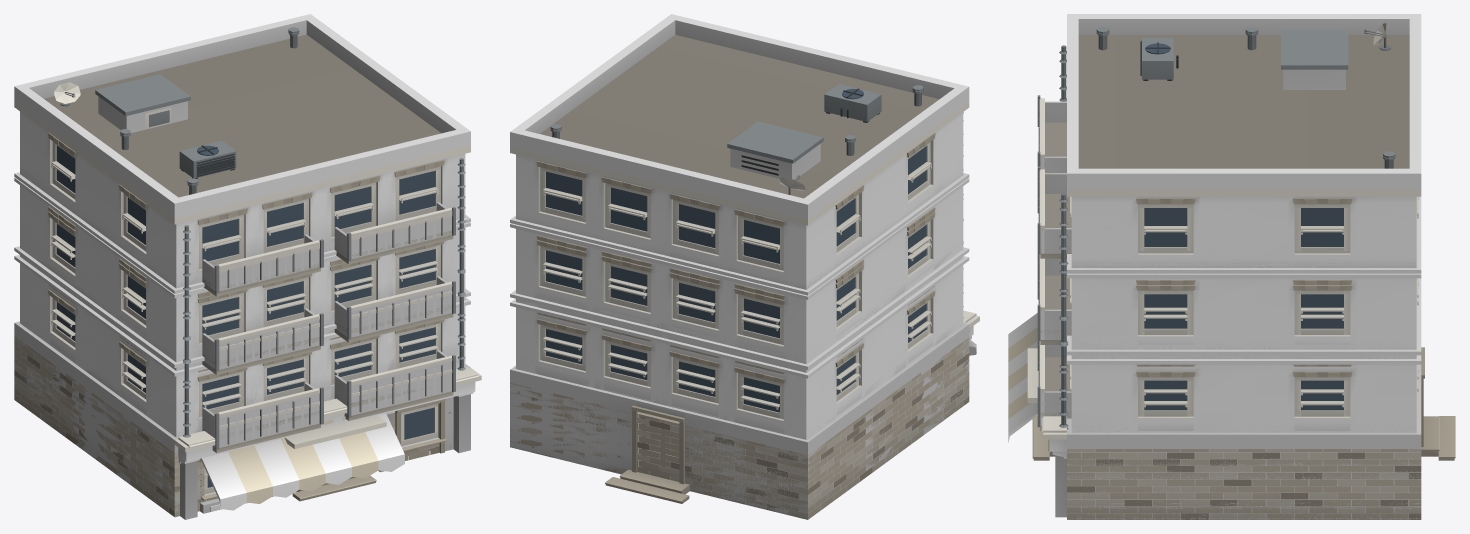
Rendered from apartment-low-near.glb.
3 views of the same model, side by side, from view 1: azimuth 30°, elevation 25°; view 2: azimuth 150°, elevation 25°; view 3: azimuth 270°, elevation 25° (orthographic). The views are drawn at different scales.
Visible parts, largest first — view 1: ApartmentLowNear, ApartmentLowRetailNear; view 2: ApartmentLowNear, ApartmentLowRetailNear; view 3: ApartmentLowNear, ApartmentLowRetailNear.
Part boxes in pixels (<box>): ApartmentLowNear: <box>14,14,470,517</box>; ApartmentLowRetailNear: <box>14,31,481,519</box>; ApartmentLowNear: <box>510,14,969,519</box>; ApartmentLowRetailNear: <box>510,89,979,519</box>; ApartmentLowNear: <box>1027,14,1421,519</box>; ApartmentLowRetailNear: <box>1008,30,1455,519</box>.
Bounding box in the file's own units: 0.964 × 1 × 1.14.
